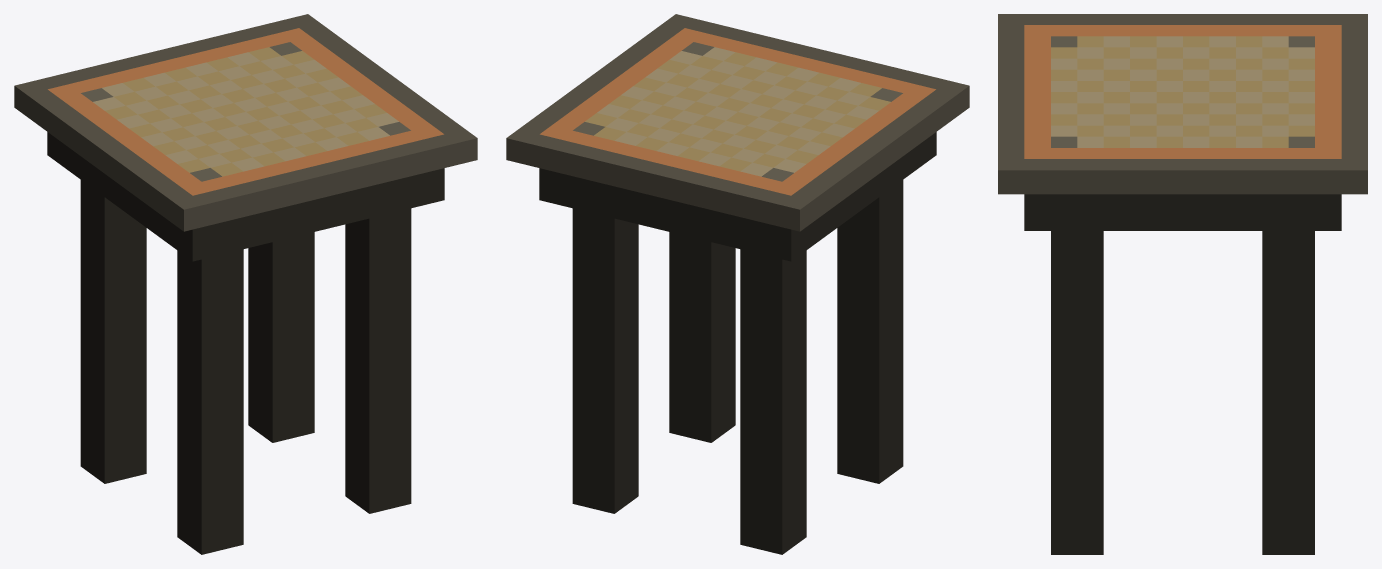
Rendered from Chess.glb.
3 views of the same model, side by side, from view 1: azimuth 30°, elevation 25°; view 2: azimuth 150°, elevation 25°; view 3: azimuth 270°, elevation 25° (orthographic). The views are drawn at different scales.
Parts seen in each view (by area): view 1: Untitled; view 2: Untitled; view 3: Untitled.
Boxes of the visible parts, x1=… form: Untitled: x1=14, y1=14, x2=477, y2=554; Untitled: x1=506, y1=14, x2=969, y2=554; Untitled: x1=998, y1=14, x2=1367, y2=554.
Bounding box in the file's own units: 1.4 × 1.7 × 1.4.
Materials: 1 (1 with a texture image).
